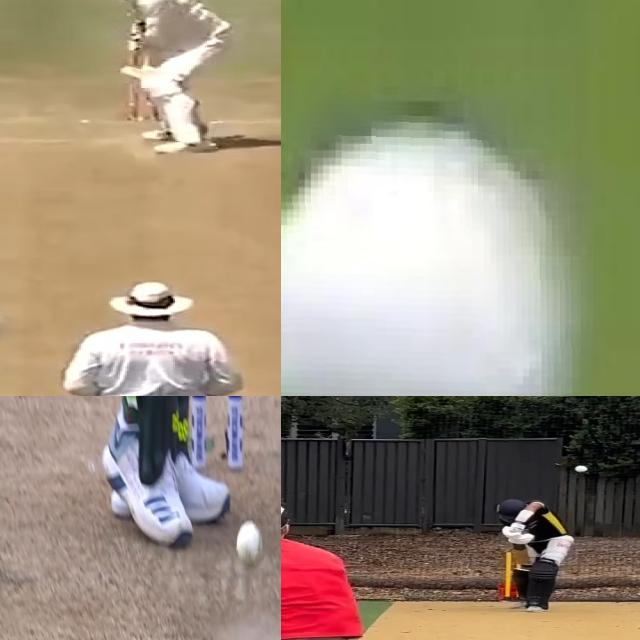Cricket ball: (281, 101, 581, 396), (237, 516, 264, 568), (574, 465, 588, 473)
